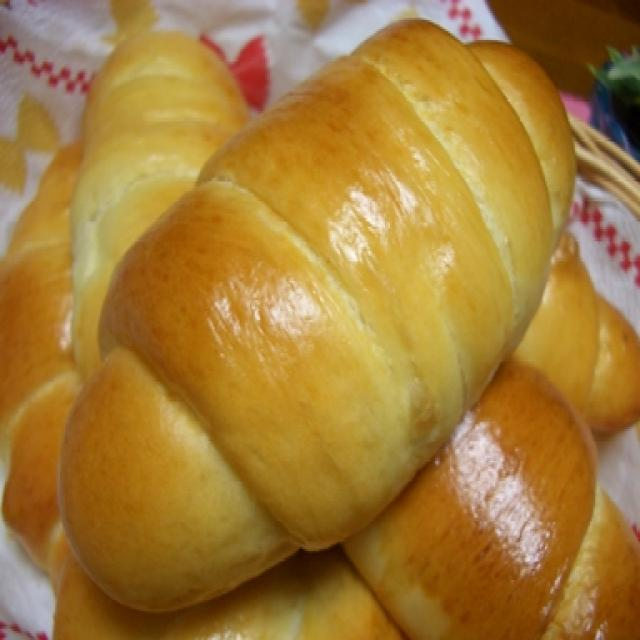面包点心: (47, 18, 575, 609)
